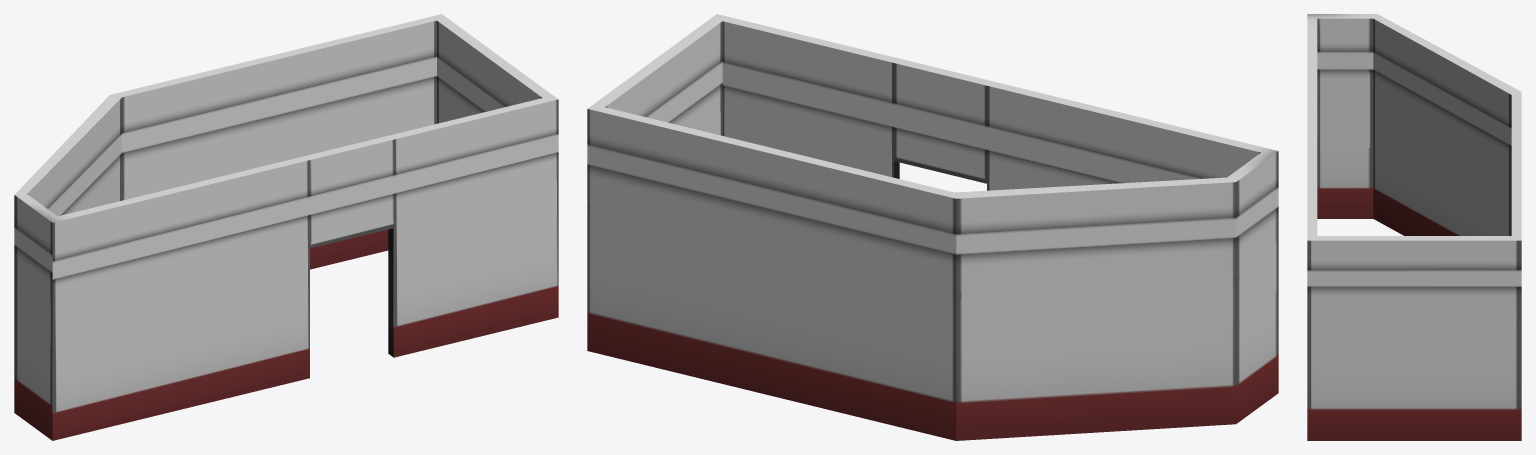
File: MainFirstFloorEle0.FBX
3 views of the same model, side by side, from view 1: azimuth 30°, elevation 25°; view 2: azimuth 150°, elevation 25°; view 3: azimuth 270°, elevation 25° (orthographic). The views are drawn at different scales.
Parts seen in each view (by area): view 1: Box131; view 2: Box131; view 3: Box131.
Part boxes in pixels (left/top/right/bottom): Box131: left=14, top=14, right=558, bottom=440; Box131: left=587, top=14, right=1278, bottom=440; Box131: left=1307, top=14, right=1521, bottom=440.
Size of the model in its own units: 168 by 69.26 by 67.16.
1 material, 1 textured.
